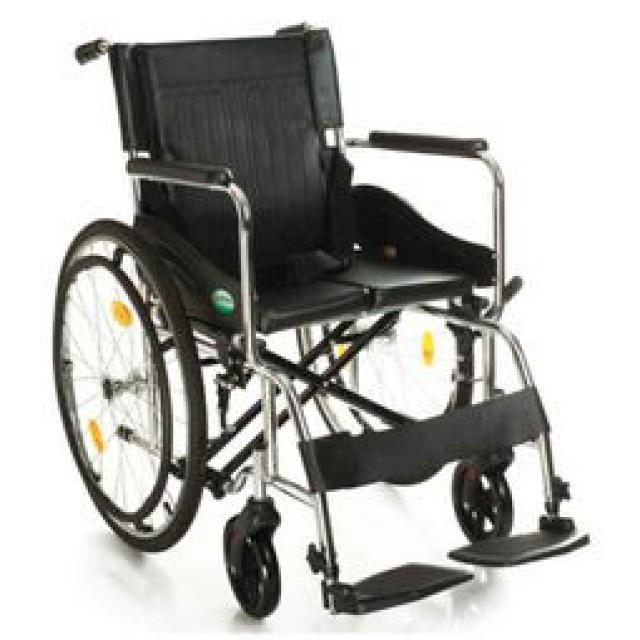wheelchair: (32, 8, 594, 632)
